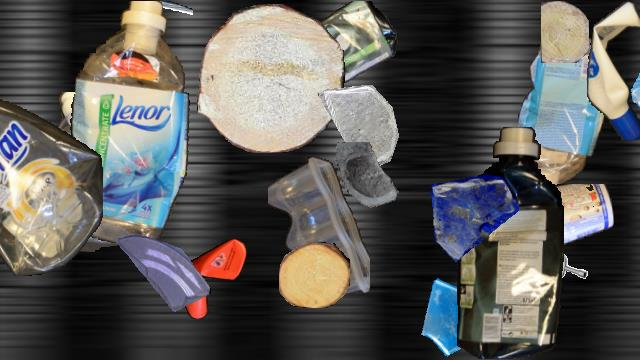glass: (116, 226, 210, 320), (425, 172, 519, 266), (417, 269, 507, 359), (318, 85, 402, 169), (331, 142, 409, 220), (628, 33, 640, 109), (639, 292, 640, 356)
metal: (130, 1, 192, 63), (546, 252, 594, 300)
plastic: (52, 1, 192, 251), (456, 127, 564, 359), (45, 92, 179, 252), (0, 66, 102, 276), (243, 1, 399, 103), (518, 35, 604, 209), (268, 157, 370, 299), (587, 1, 640, 139), (514, 184, 614, 254), (173, 239, 247, 319)
wood: (196, 4, 344, 152), (279, 242, 349, 308), (541, 1, 589, 63)
